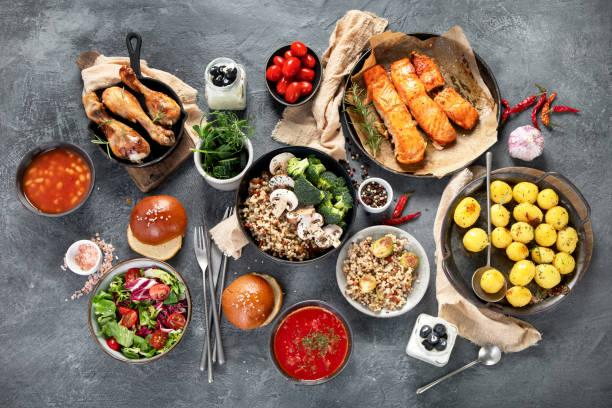Braised Crucian Carp: (438, 165, 590, 316), (341, 32, 497, 179), (232, 145, 351, 263), (87, 258, 190, 365), (86, 74, 186, 166), (335, 225, 429, 317), (269, 300, 353, 385), (12, 141, 93, 217)
